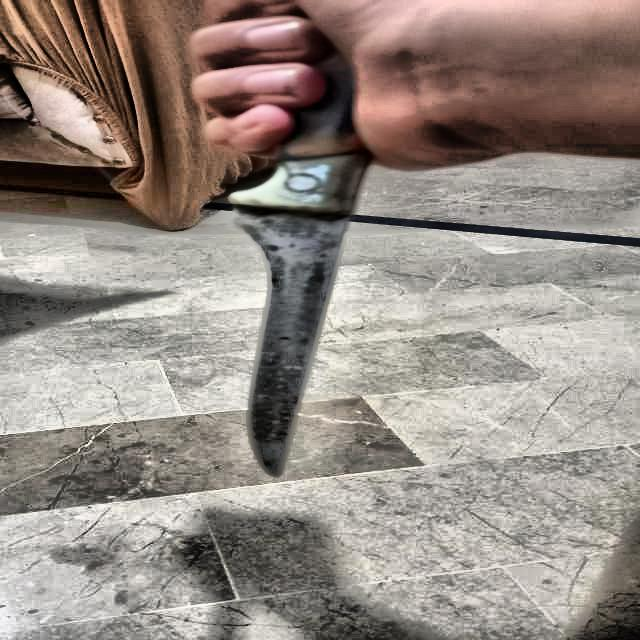knife: (231, 52, 371, 476)
